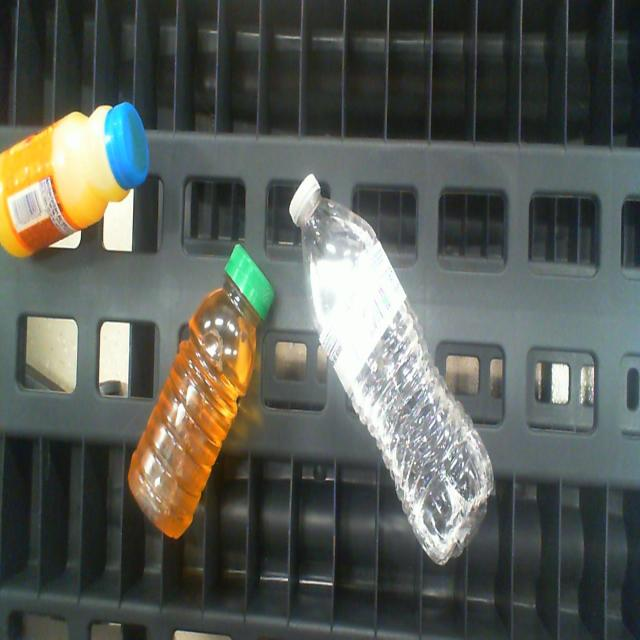drink: (105, 102, 150, 187), (228, 241, 276, 316), (290, 171, 322, 229)
